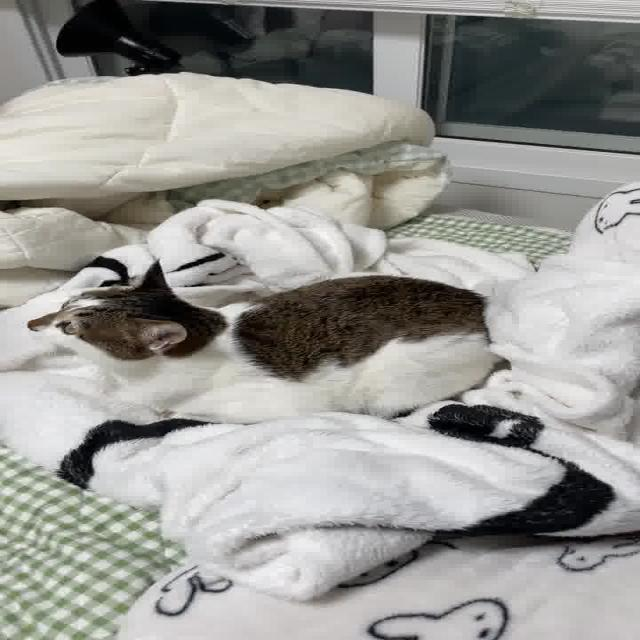cat: (24, 250, 552, 432)
